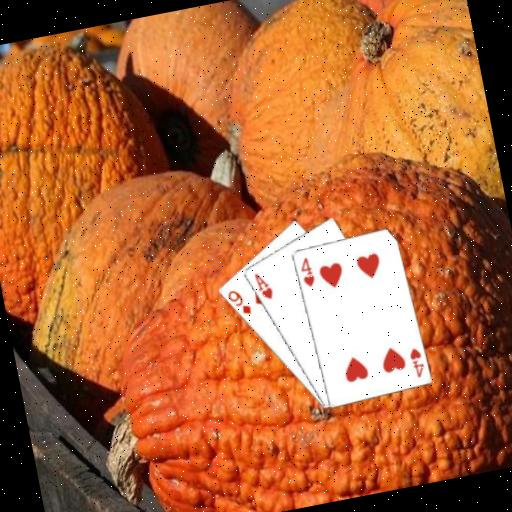4H: (405, 344, 428, 381), (295, 254, 317, 290)
9D: (224, 284, 254, 319)
AH: (250, 268, 275, 303)
